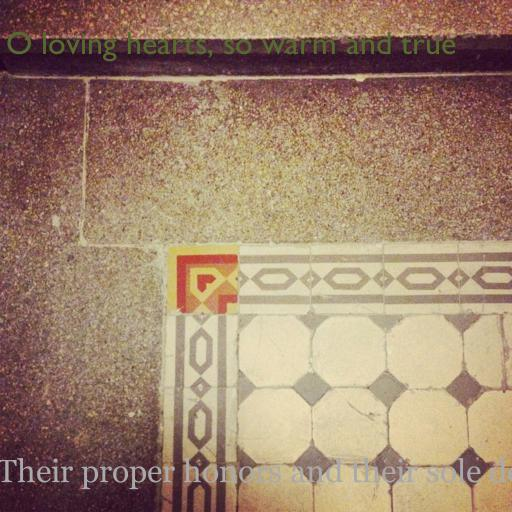Georgia: (0, 457, 512, 490)
Gill Sans: (6, 31, 456, 62)
